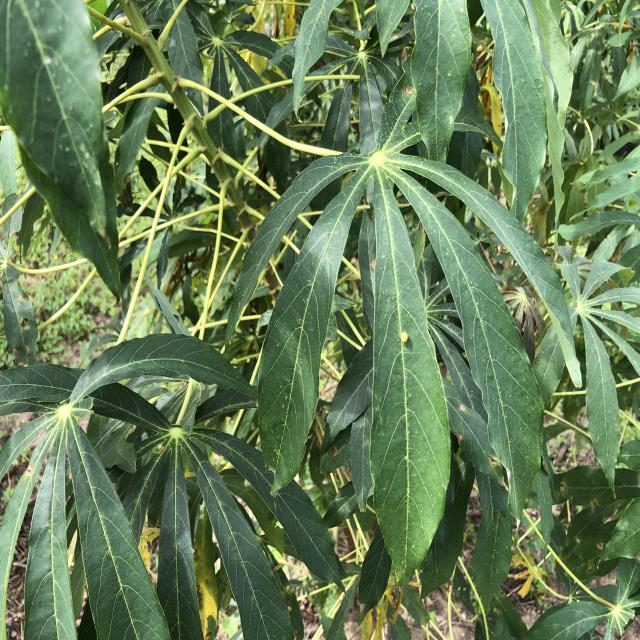Mosca: (267, 557, 288, 580), (396, 322, 412, 348), (623, 165, 637, 184)
